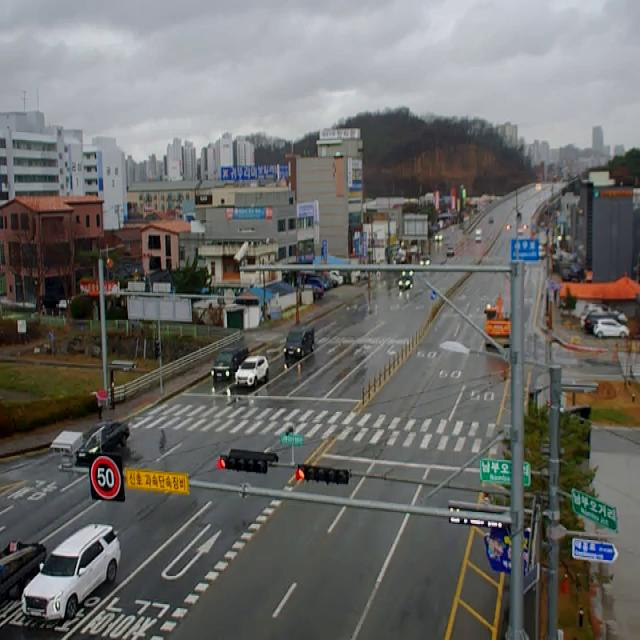Car: (22, 524, 121, 619), (76, 422, 129, 460), (212, 346, 248, 379), (581, 305, 629, 328), (235, 356, 269, 387), (283, 327, 314, 358), (585, 310, 627, 332), (594, 319, 630, 339), (398, 276, 414, 289), (420, 256, 432, 265), (446, 245, 454, 258), (475, 229, 482, 243), (401, 270, 415, 277), (435, 234, 443, 242)
Truck: (0, 511, 56, 608), (475, 294, 515, 359)
